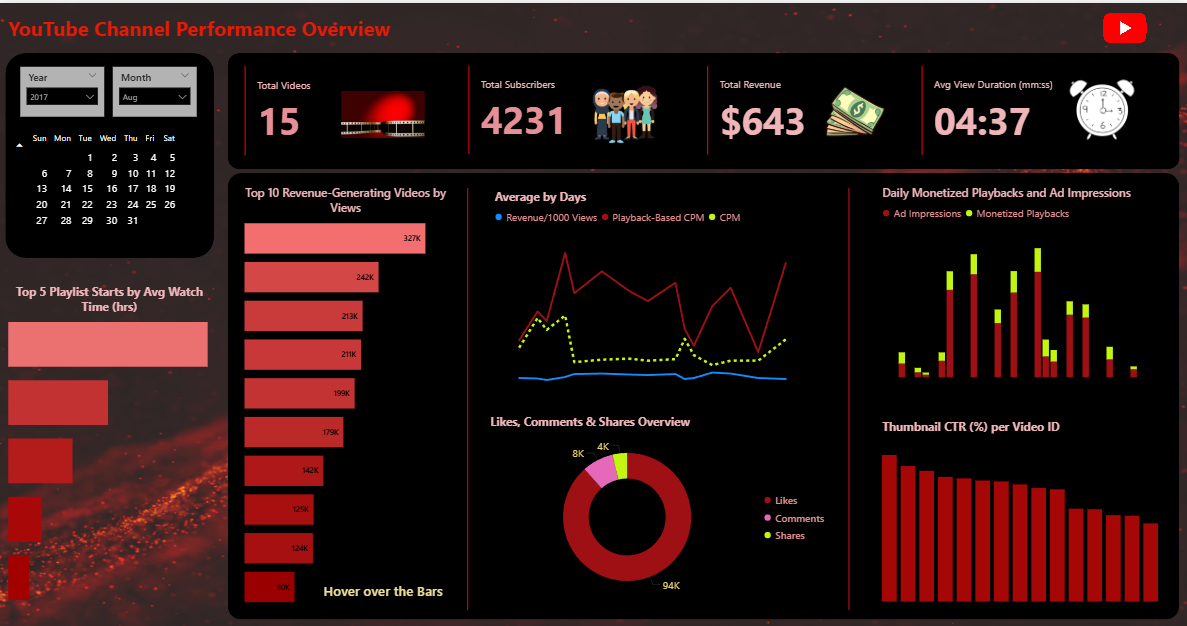

This screenshot's page, from the dashboard's own definition file:
{"tool":"powerbi","page":{"name":"Page 1","canvas":[1900,1000],"ordinal":0},"visuals":[{"type":"textbox","box":[10.2,14.3,710.9,81.5],"z":0},{"type":"shape","box":[10,80,334,328],"z":1000},{"type":"slicer","fields":{"Values":["Date_Table.Year"]},"box":[34.3,102.9,134.3,80],"z":2000},{"type":"slicer","fields":{"Values":["Date_Table.Month"]},"box":[182.9,102.9,134.3,80],"z":3000},{"type":"pivotTable","fields":{"Rows":["Date_Table.Weeknum"],"Columns":["Date_Table.Day of Week"],"Values":["Sum(Date_Table.Day)"]},"box":[17.1,200,324.3,194.3],"z":4000},{"type":"shape","box":[365.7,80,1523,186],"z":5000},{"type":"image","box":[1701.4,0,198.6,80],"z":6000},{"type":"cardVisual","fields":{"Data":["youtube_channel_real_performanc.Total Videos"]},"box":[387.1,95.7,325,153],"z":7000},{"type":"image","box":[541.7,136.7,145,85],"z":8000},{"type":"cardVisual","fields":{"Data":["youtube_channel_real_performanc.Total Subscribers"]},"box":[745,96.7,341.7,151.7],"z":9000},{"type":"image","box":[942,120,120,118],"z":10000},{"type":"cardVisual","fields":{"Data":["youtube_channel_real_performanc.Total Revenue"]},"box":[1128,96,324,152],"z":11000},{"type":"image","box":[1309.6,120,120,114],"z":12000},{"type":"cardVisual","fields":{"Data":["youtube_channel_real_performanc.Avg View Duration"]},"box":[1476,96,324,152],"z":13000},{"type":"image","box":[1708.8,108.7,113.9,126],"z":14000},{"type":"shape","box":[365.9,272.7,1522.4,714.6],"z":15000},{"type":"clusteredBarChart","title":"Top 10 Revenue-Generating Videos by Views","fields":{"Category":["youtube_channel_real_performanc.ID"],"Y":["Sum(youtube_channel_real_performanc.Views)"]},"box":[388.4,290,333.1,674.9],"z":16000},{"type":"textbox","box":[513.3,920.7,203.7,42.8],"z":17000},{"type":"lineChart","title":"Average by Days","fields":{"Category":["Date_Table.Date.Variation.Date Hierarchy.Day"],"Y":["youtube_channel_real_performanc.Avg Revenue/1000 Views","youtube_channel_real_performanc.Avg Playback-Based CPM","youtube_channel_real_performanc.Avg CPM"]},"box":[788.3,296.7,545,315],"z":18000},{"type":"columnChart","title":"Daily Monetized Playbacks and Ad Impressions","fields":{"Category":["Date_Table.Date.Variation.Date Hierarchy.Day"],"Y":["Sum(youtube_channel_real_performanc.Ad Impressions)","Sum(youtube_channel_real_performanc.Monetized Playbacks (Estimate))"]},"box":[1408.3,290,470,315],"z":19000},{"type":"shape","box":[723.3,296.7,51.7,675],"z":20000},{"type":"shape","box":[1333.3,296.7,51.7,675],"z":21000},{"type":"donutChart","title":"Likes, Comments & Shares Overview","fields":{"Y":["Sum(youtube_channel_real_performanc.Likes)","Sum(youtube_channel_real_performanc.New Comments)","Sum(youtube_channel_real_performanc.Shares)"]},"box":[775,635,558.3,328.3],"z":22000},{"type":"clusteredBarChart","title":"Top 5 Playlist Starts by Avg Watch Time (hrs)","fields":{"Category":["youtube_channel_real_performanc.ID"],"Y":["youtube_channel_real_performanc.WatchTime/Start"]},"box":[10,448.3,333.3,515],"z":23000},{"type":"clusteredColumnChart","title":"Thumbnail CTR (%) per Video ID","fields":{"Category":["youtube_channel_real_performanc.ID"],"Y":["Avg(youtube_channel_real_performanc.Video Thumbnail CTR (%))"]},"box":[1408,664,452,300],"z":24000}]}

Visuals, with their boxes in screenshot pixels (x1, y1, x2, y2), scaled from the page's 1900x1000 canvas onto the 1187x626 screenshot:
textbox: 6/9/450/60
shape: 6/50/215/255
slicer - Date_Table.Year: 21/64/105/114
slicer - Date_Table.Month: 114/64/198/114
pivotTable - Date_Table.Weeknum x Date_Table.Day of Week: 11/125/213/247
shape: 228/50/1180/167
image: 1063/0/1186/50
cardVisual - youtube_channel_real_performanc.Total Videos: 242/60/445/156
image: 338/86/429/139
cardVisual - youtube_channel_real_performanc.Total Subscribers: 465/61/679/155
image: 589/75/663/149
cardVisual - youtube_channel_real_performanc.Total Revenue: 705/60/907/155
image: 818/75/893/146
cardVisual - youtube_channel_real_performanc.Avg View Duration: 922/60/1125/155
image: 1068/68/1139/147
shape: 229/171/1180/618
"Top 10 Revenue-Generating Videos by Views" clusteredBarChart: 243/182/451/604
textbox: 321/576/448/603
"Average by Days" lineChart: 492/186/833/383
"Daily Monetized Playbacks and Ad Impressions" columnChart: 880/182/1173/379
shape: 452/186/484/608
shape: 833/186/865/608
"Likes, Comments & Shares Overview" donutChart: 484/398/833/603
"Top 5 Playlist Starts by Avg Watch Time (hrs)" clusteredBarChart: 6/281/214/603
"Thumbnail CTR (%) per Video ID" clusteredColumnChart: 880/416/1162/603
